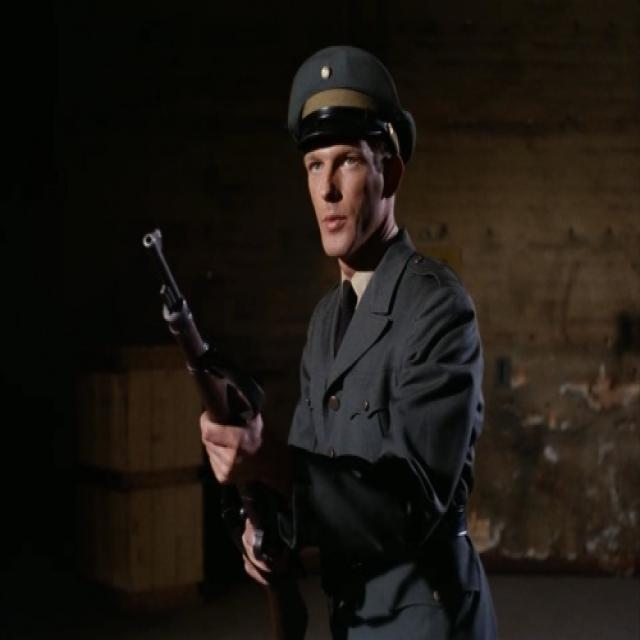rifle: (142, 219, 314, 640)
